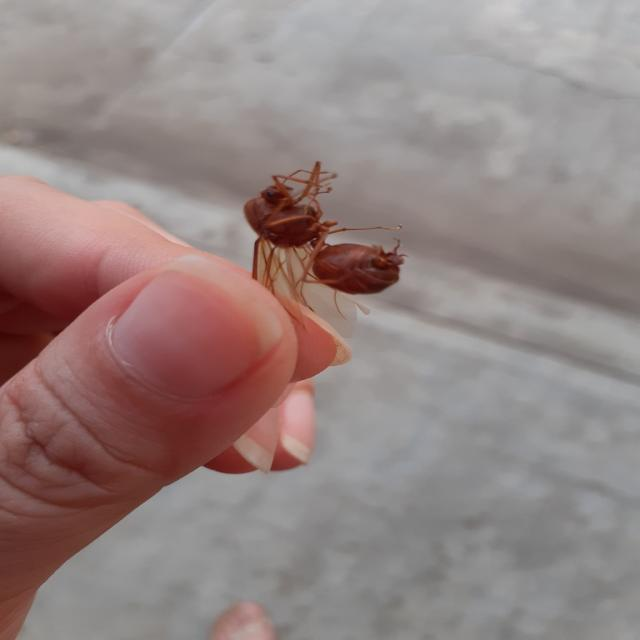Dead-Male-Alate: (244, 160, 410, 338)
